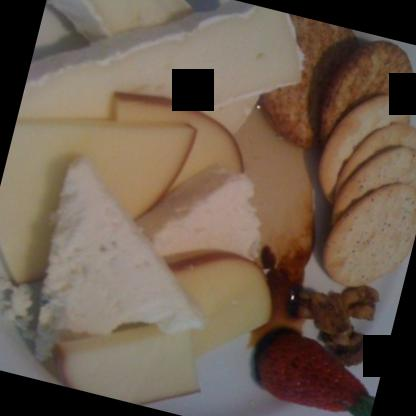cookie: (254, 13, 363, 156), (310, 31, 415, 176), (309, 80, 415, 213), (314, 167, 415, 302), (329, 111, 415, 225), (331, 132, 415, 237)
mozarella cheese: (14, 155, 220, 370), (124, 146, 276, 288)
parmesan cheese: (0, 83, 197, 318), (86, 88, 264, 212), (44, 306, 206, 415), (145, 243, 275, 370)
strawberry: (248, 326, 375, 415)
